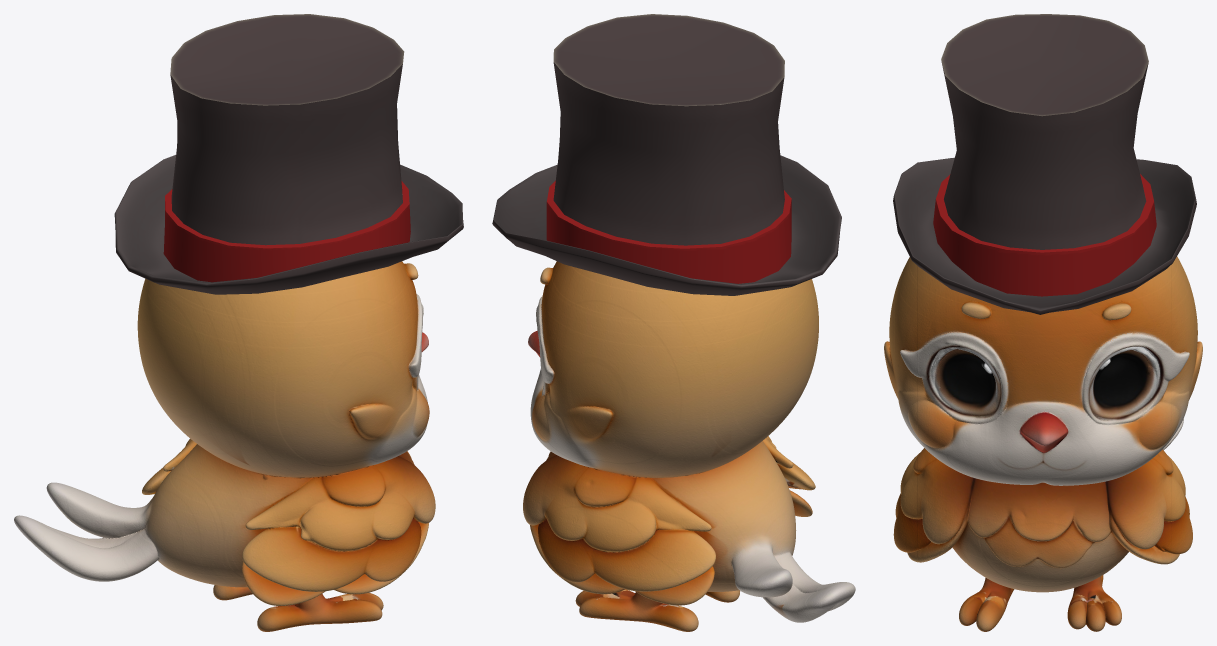
The model's file is birdy_high_hat.glb.
3 views of the same model, side by side, from view 1: azimuth 30°, elevation 25°; view 2: azimuth 150°, elevation 25°; view 3: azimuth 270°, elevation 25° (orthographic).
Visible parts, largest first — view 1: Object_2, tripo_part_10_Clone, tripo_part_8_Clone, tripo_part_3_Clone, tripo_part_1_Clone, tripo_part_13_Clone, tripo_part_6_Clone, tripo_part_0_Clone, tripo_part_4_Clone; view 2: Object_2, tripo_part_10_Clone, tripo_part_15_Clone, tripo_part_8_Clone, tripo_part_16_Clone, tripo_part_13_Clone, tripo_part_11_Clone, tripo_part_18_Clone, tripo_part_1_Clone, tripo_part_14_Clone, tripo_part_17_Clone; view 3: Object_2, tripo_part_10_Clone, tripo_part_7_Clone, tripo_part_4_Clone, tripo_part_14_Clone, tripo_part_15_Clone, tripo_part_8_Clone, tripo_part_3_Clone, tripo_part_11_Clone, tripo_part_16_Clone, tripo_part_6_Clone, tripo_part_1_Clone (+3 smaller).
Part boxes in pixels (x1,y1,x2,y2): Object_2: [114, 14, 463, 294]; tripo_part_10_Clone: [137, 261, 427, 478]; tripo_part_8_Clone: [139, 444, 312, 587]; tripo_part_3_Clone: [245, 456, 435, 550]; tripo_part_1_Clone: [242, 518, 428, 605]; tripo_part_13_Clone: [14, 482, 158, 581]; tripo_part_6_Clone: [257, 593, 383, 631]; tripo_part_0_Clone: [350, 403, 395, 440]; tripo_part_4_Clone: [408, 294, 423, 391]; Object_2: [492, 14, 841, 295]; tripo_part_10_Clone: [530, 261, 818, 477]; tripo_part_15_Clone: [523, 455, 711, 552]; tripo_part_8_Clone: [657, 441, 796, 591]; tripo_part_16_Clone: [530, 518, 715, 605]; tripo_part_13_Clone: [730, 535, 855, 622]; tripo_part_11_Clone: [575, 589, 698, 631]; tripo_part_18_Clone: [561, 403, 613, 443]; tripo_part_1_Clone: [777, 460, 815, 516]; tripo_part_14_Clone: [536, 297, 554, 397]; tripo_part_17_Clone: [532, 395, 549, 441]; Object_2: [893, 14, 1196, 314]; tripo_part_10_Clone: [889, 256, 1197, 485]; tripo_part_7_Clone: [963, 477, 1109, 568]; tripo_part_4_Clone: [900, 330, 1008, 424]; tripo_part_14_Clone: [1081, 332, 1189, 425]; tripo_part_15_Clone: [1104, 449, 1185, 549]; tripo_part_8_Clone: [952, 523, 1128, 592]; tripo_part_3_Clone: [900, 448, 973, 544]; tripo_part_11_Clone: [1067, 575, 1121, 631]; tripo_part_16_Clone: [1108, 496, 1192, 564]; tripo_part_6_Clone: [959, 578, 1014, 631]; tripo_part_1_Clone: [893, 493, 960, 562].
Size of the model in its own units: 0.9871 by 1.34 by 0.7117.
Materials: 2 (2 with a texture image).
